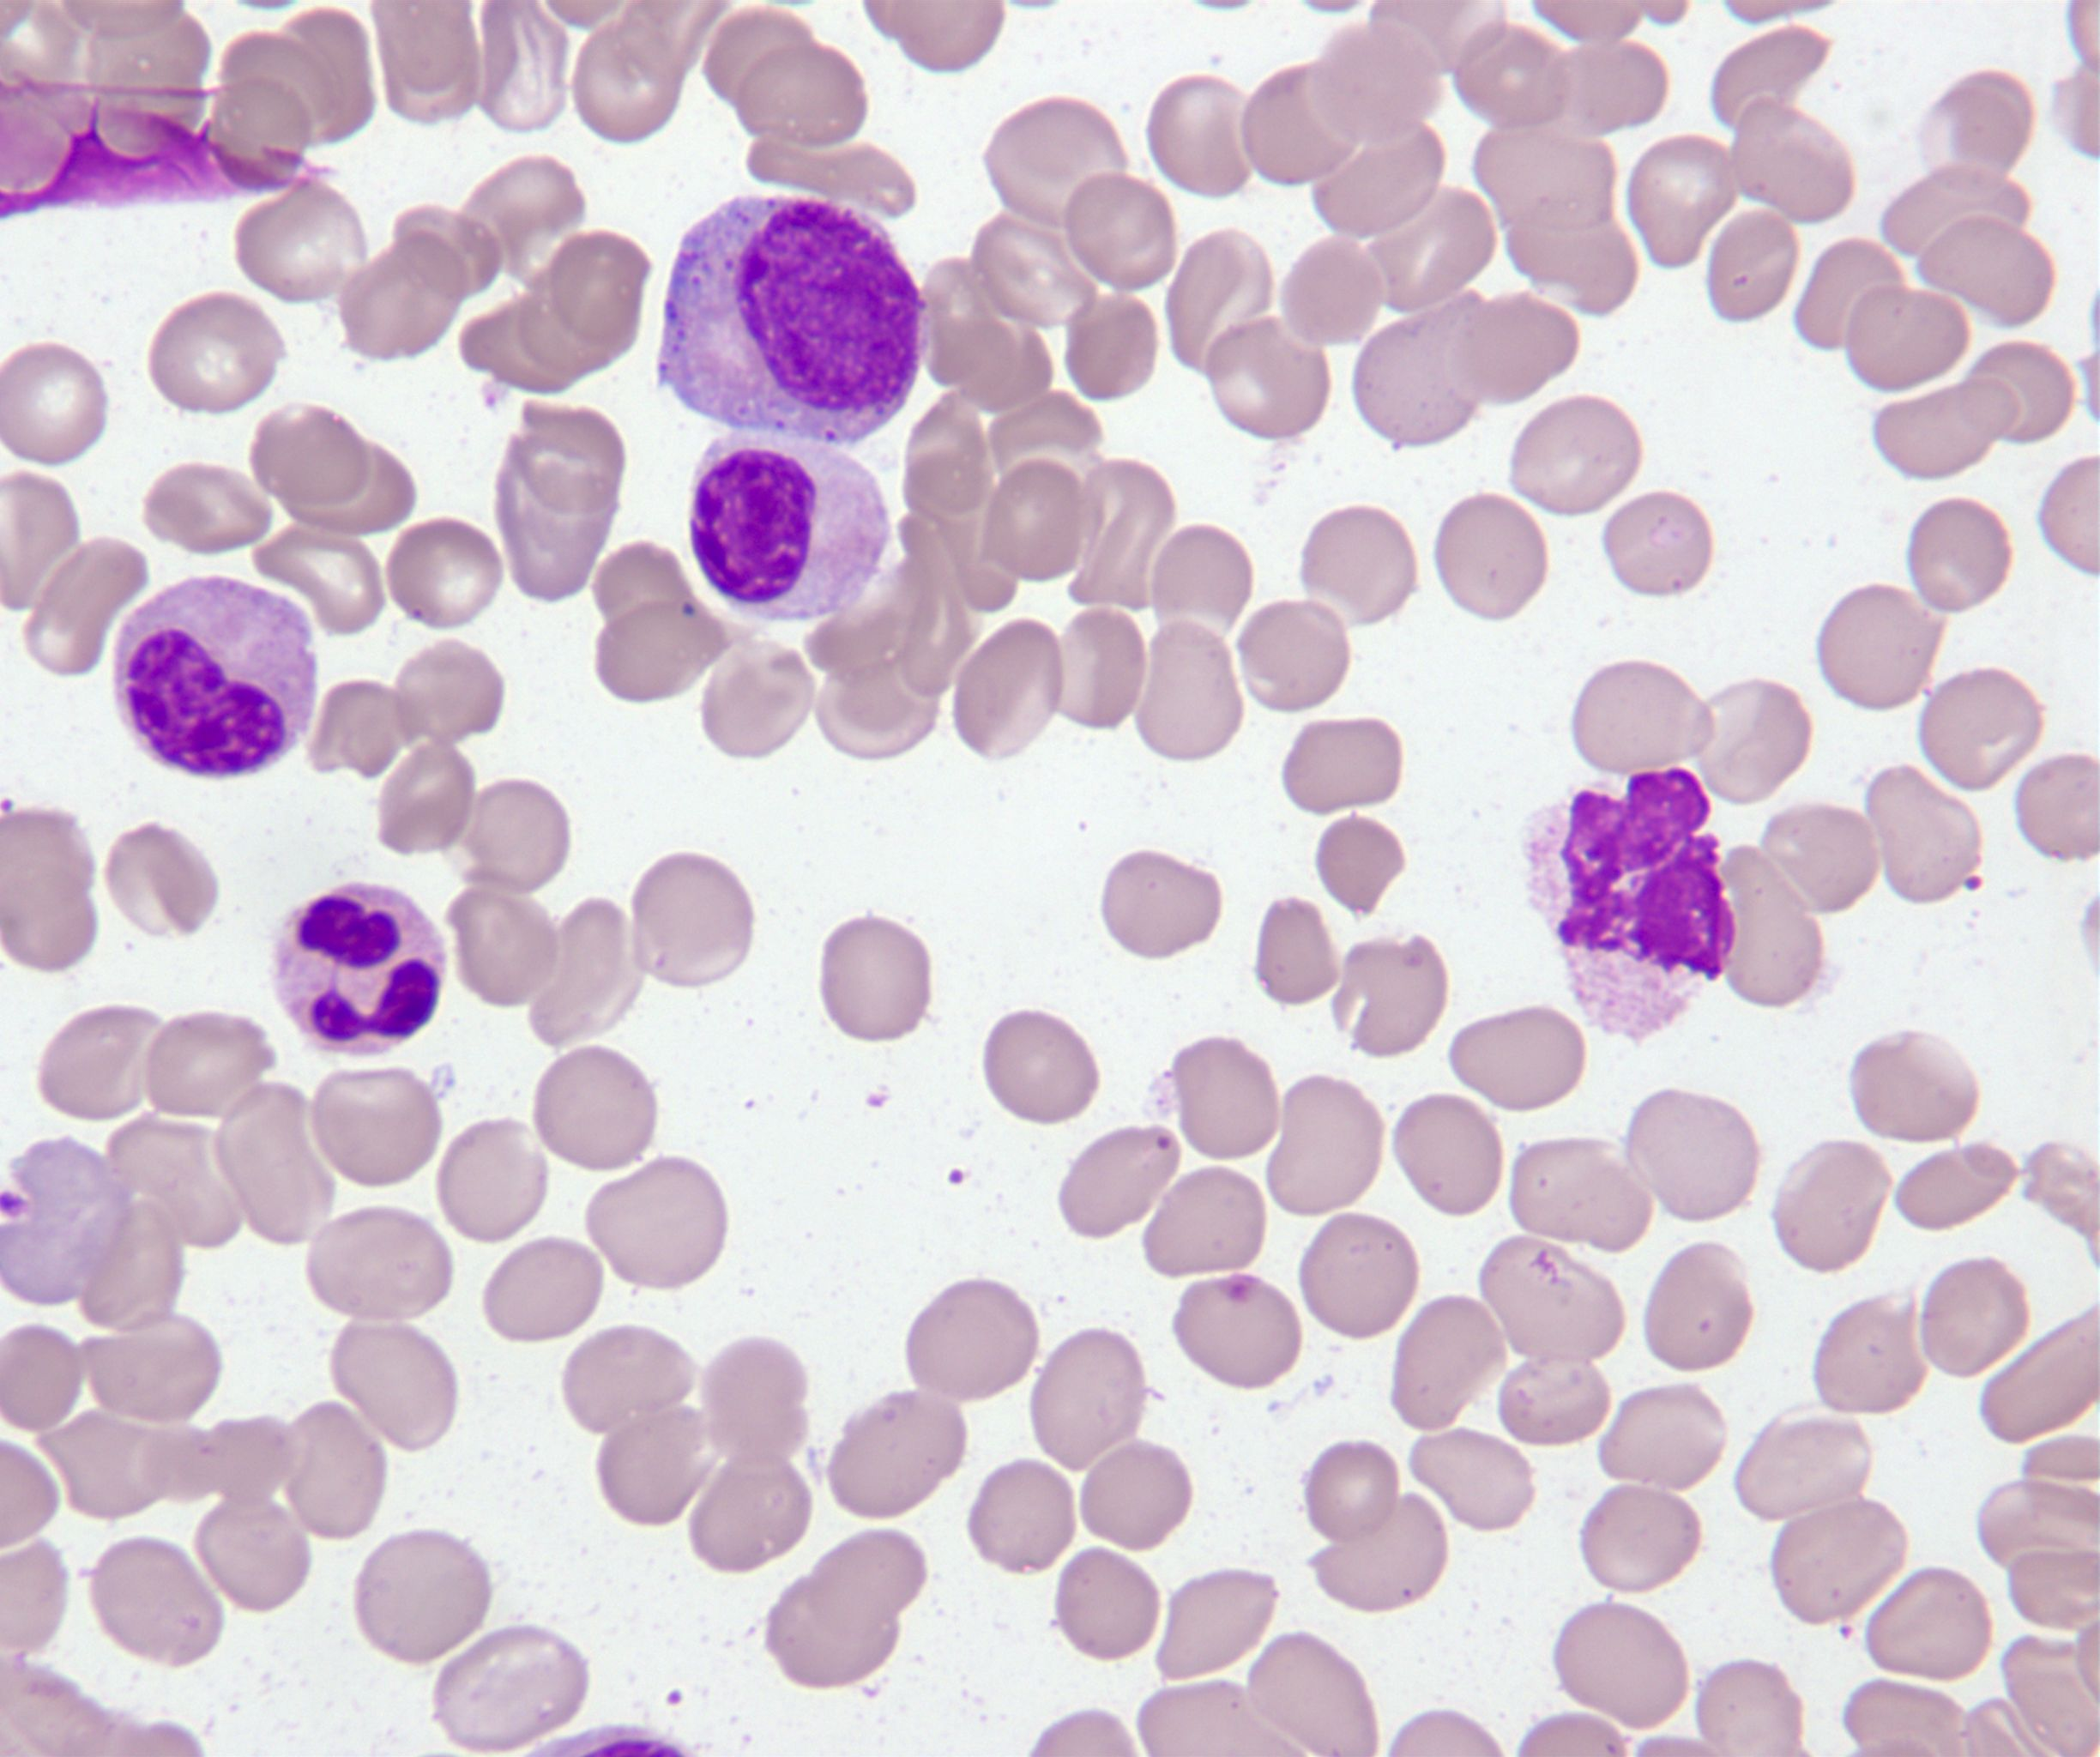3: (659, 195, 926, 445)
4: (113, 578, 316, 776), (691, 429, 890, 619)
6: (269, 883, 445, 1054)
x: (1519, 768, 1737, 1047)
